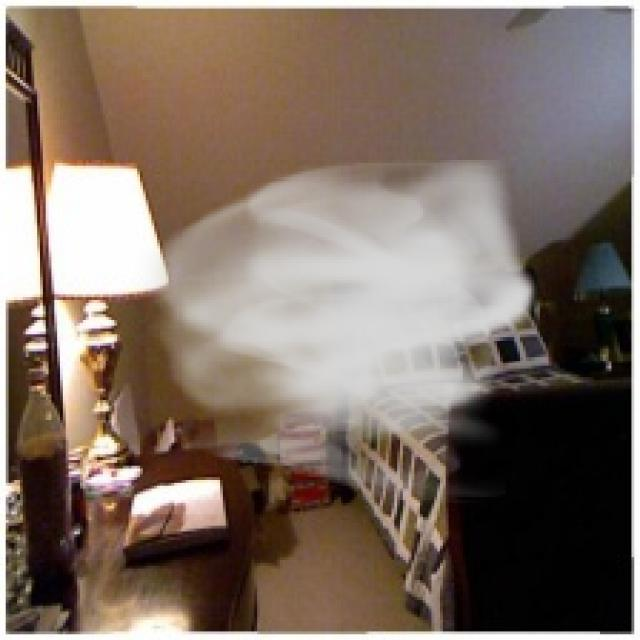Smoke: (135, 148, 540, 506)
